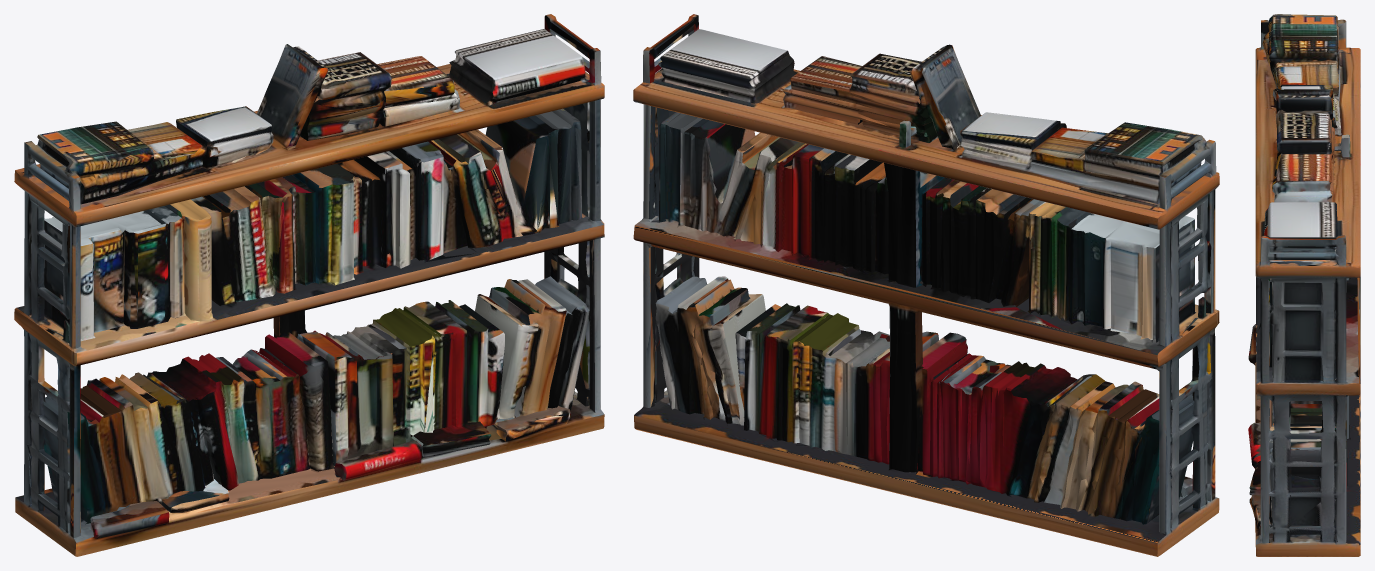
The model's file is prison_shelves_with_comic_books_004.glb.
3 renders of one model, left to right at view 1: azimuth 30°, elevation 25°; view 2: azimuth 150°, elevation 25°; view 3: azimuth 270°, elevation 25°, orthographic. The views are drawn at different scales.
Parts seen in each view (by area): view 1: e529e17a-d556-4fff-b72f-f2e843ba66c8_texturing.obj; view 2: e529e17a-d556-4fff-b72f-f2e843ba66c8_texturing.obj; view 3: e529e17a-d556-4fff-b72f-f2e843ba66c8_texturing.obj.
Part boxes in pixels (x1,y1,x2,y2): e529e17a-d556-4fff-b72f-f2e843ba66c8_texturing.obj: (14, 14, 604, 556); e529e17a-d556-4fff-b72f-f2e843ba66c8_texturing.obj: (633, 14, 1219, 556); e529e17a-d556-4fff-b72f-f2e843ba66c8_texturing.obj: (1248, 14, 1360, 556).
Bounding box in the file's own units: 1.32 × 0.9994 × 0.2863.
Materials: 1 (1 with a texture image).
